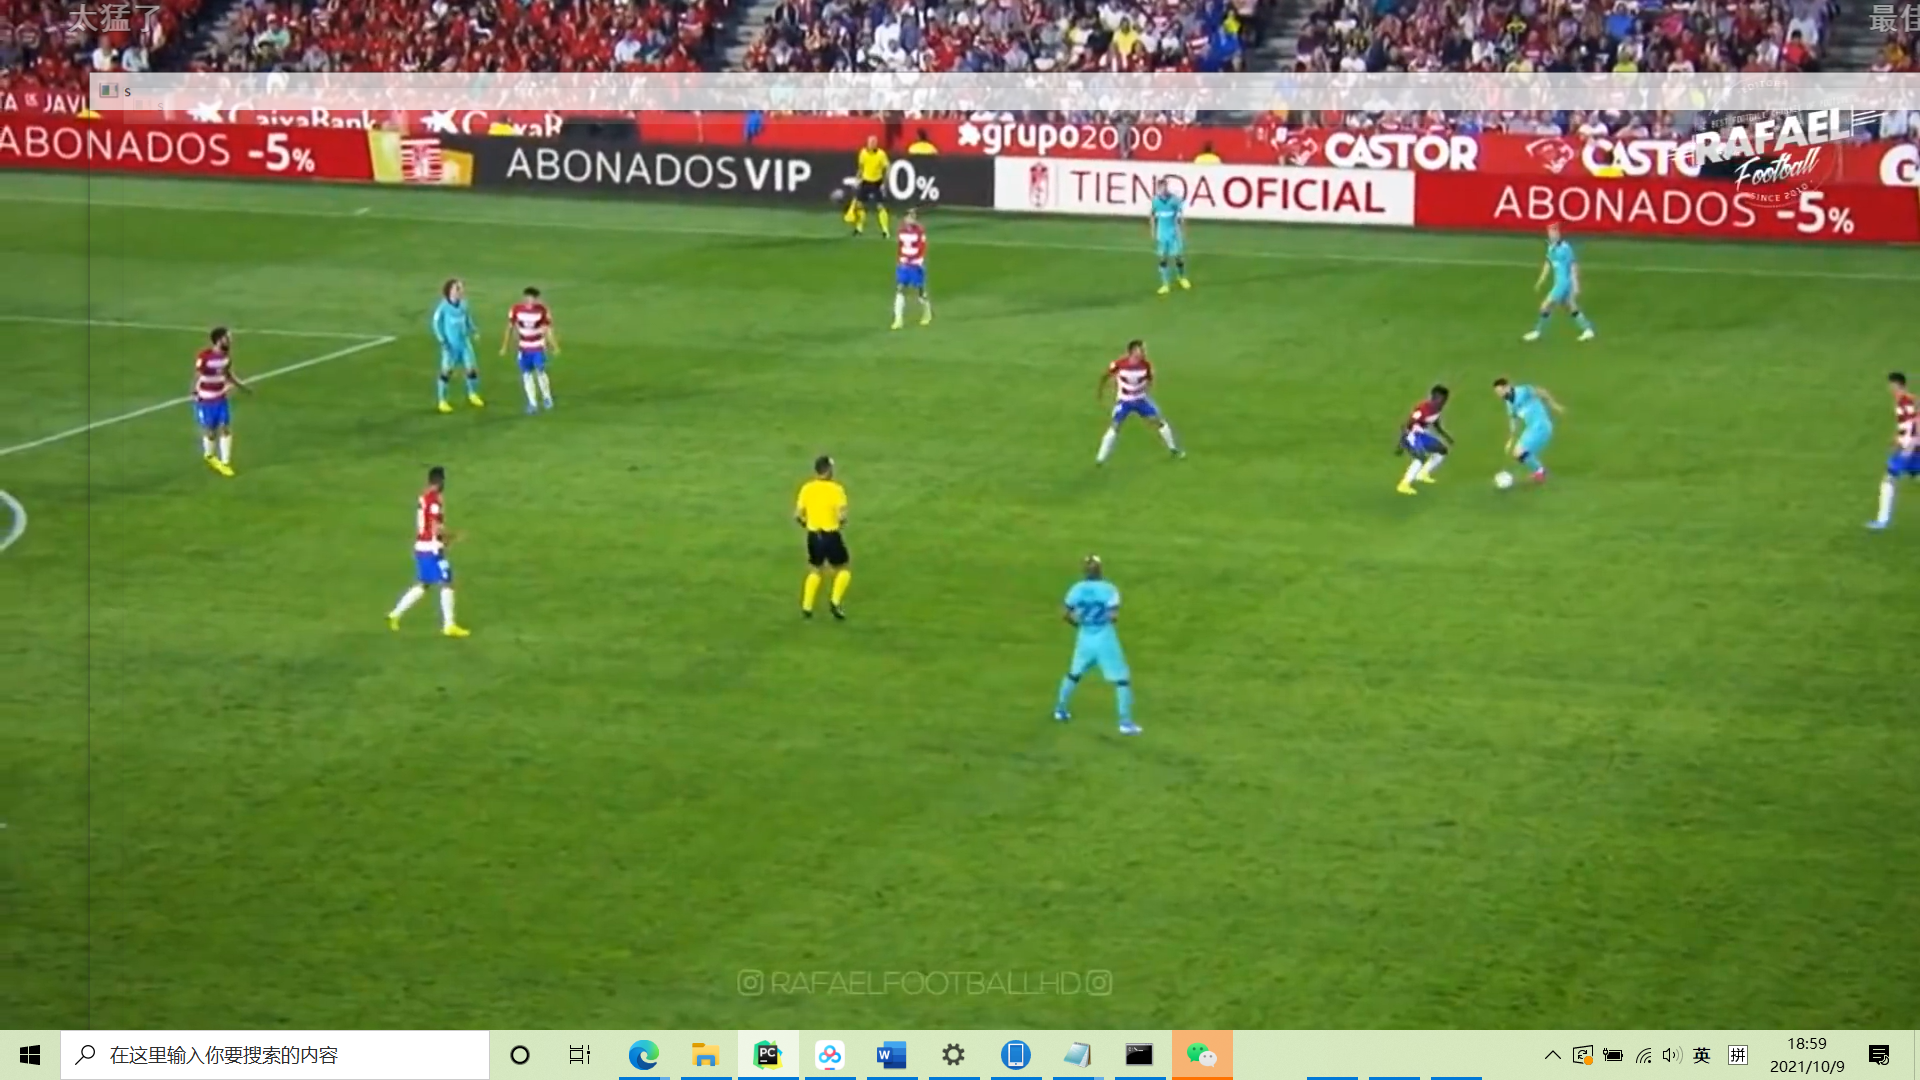ft: (1493, 471, 1514, 492)
